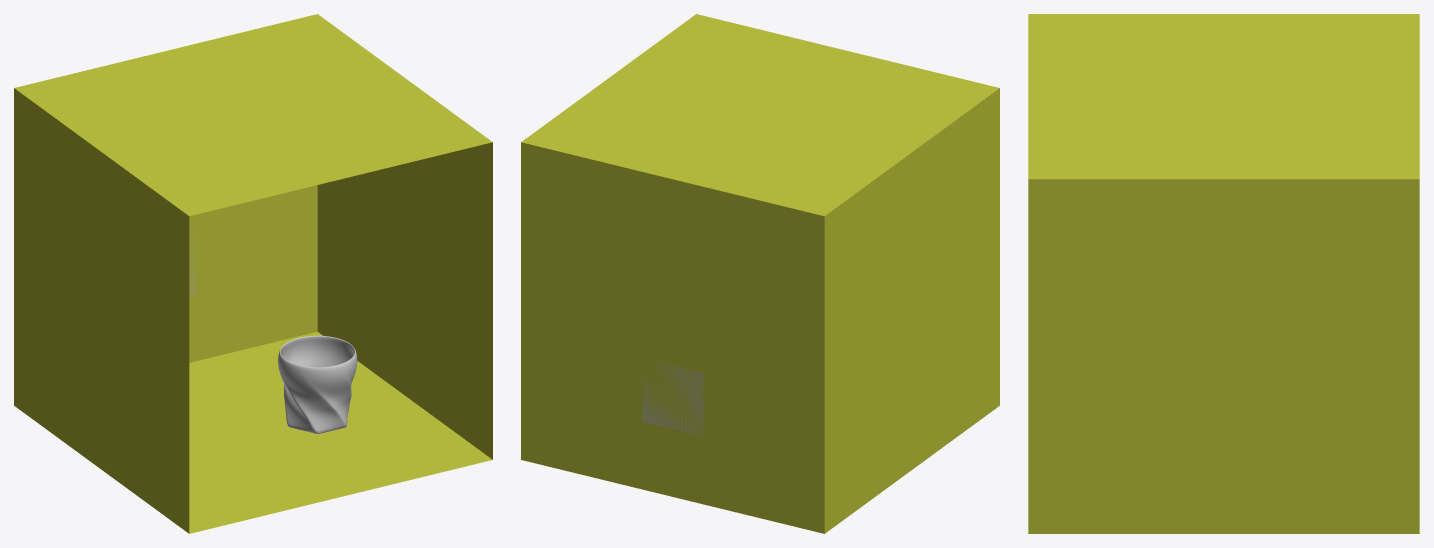
File: glass_cornellbox.obj
3 views of the same model, side by side, from view 1: azimuth 30°, elevation 25°; view 2: azimuth 150°, elevation 25°; view 3: azimuth 270°, elevation 25° (orthographic). The views are drawn at different scales.
Parts seen in each view (by area): view 1: leftwall, ceiling, rightwall, ground, backwall, upright_glass; view 2: backwall, leftwall, ceiling, light; view 3: rightwall, ceiling.
Boxes of the visible parts, <box> form: leftwall: <box>14,88,189,533</box>; ceiling: <box>14,14,492,216</box>; rightwall: <box>317,142,492,459</box>; ground: <box>189,331,492,533</box>; backwall: <box>189,185,317,362</box>; upright_glass: <box>278,335,357,433</box>; backwall: <box>521,142,824,533</box>; leftwall: <box>824,88,999,533</box>; ceiling: <box>521,14,999,216</box>; light: <box>642,360,703,435</box>; rightwall: <box>1028,179,1419,533</box>; ceiling: <box>1028,14,1419,179</box>.
Bounding box in the file's own units: 10 × 10 × 10.
